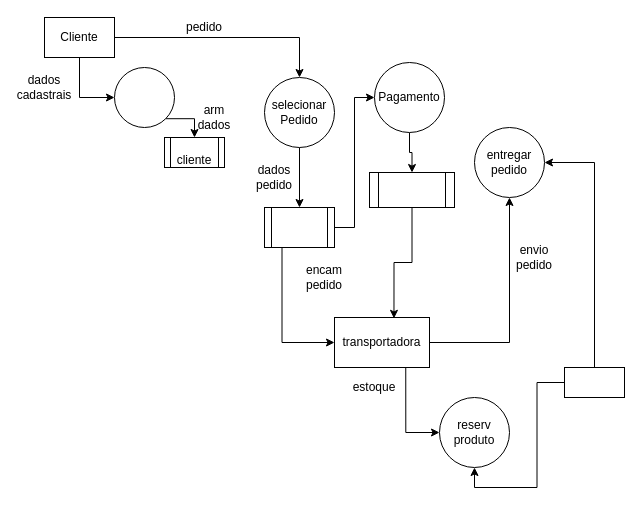
Some shapes in this 642 by 513 pixel diagram are drawn without their labels. Here are the shapes that lost their labels. From the top down, the centre of each, then its label:
At (144,97): "cadastrar cliente".
At (411,190): "baixa de pagamento".
At (299,227): "arm pedido".
At (594,382): "adm".
